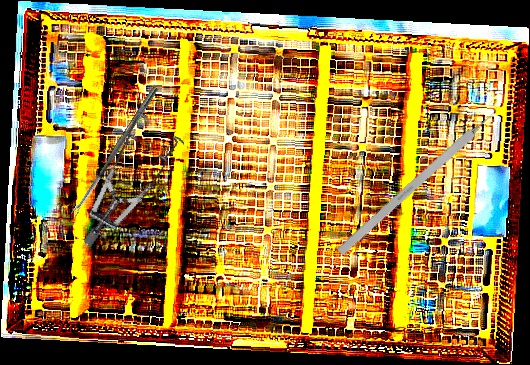Hook Surgical: (336, 100, 508, 256)
Speculum: (42, 97, 208, 249)
Surgical Spoon: (69, 85, 159, 218)
